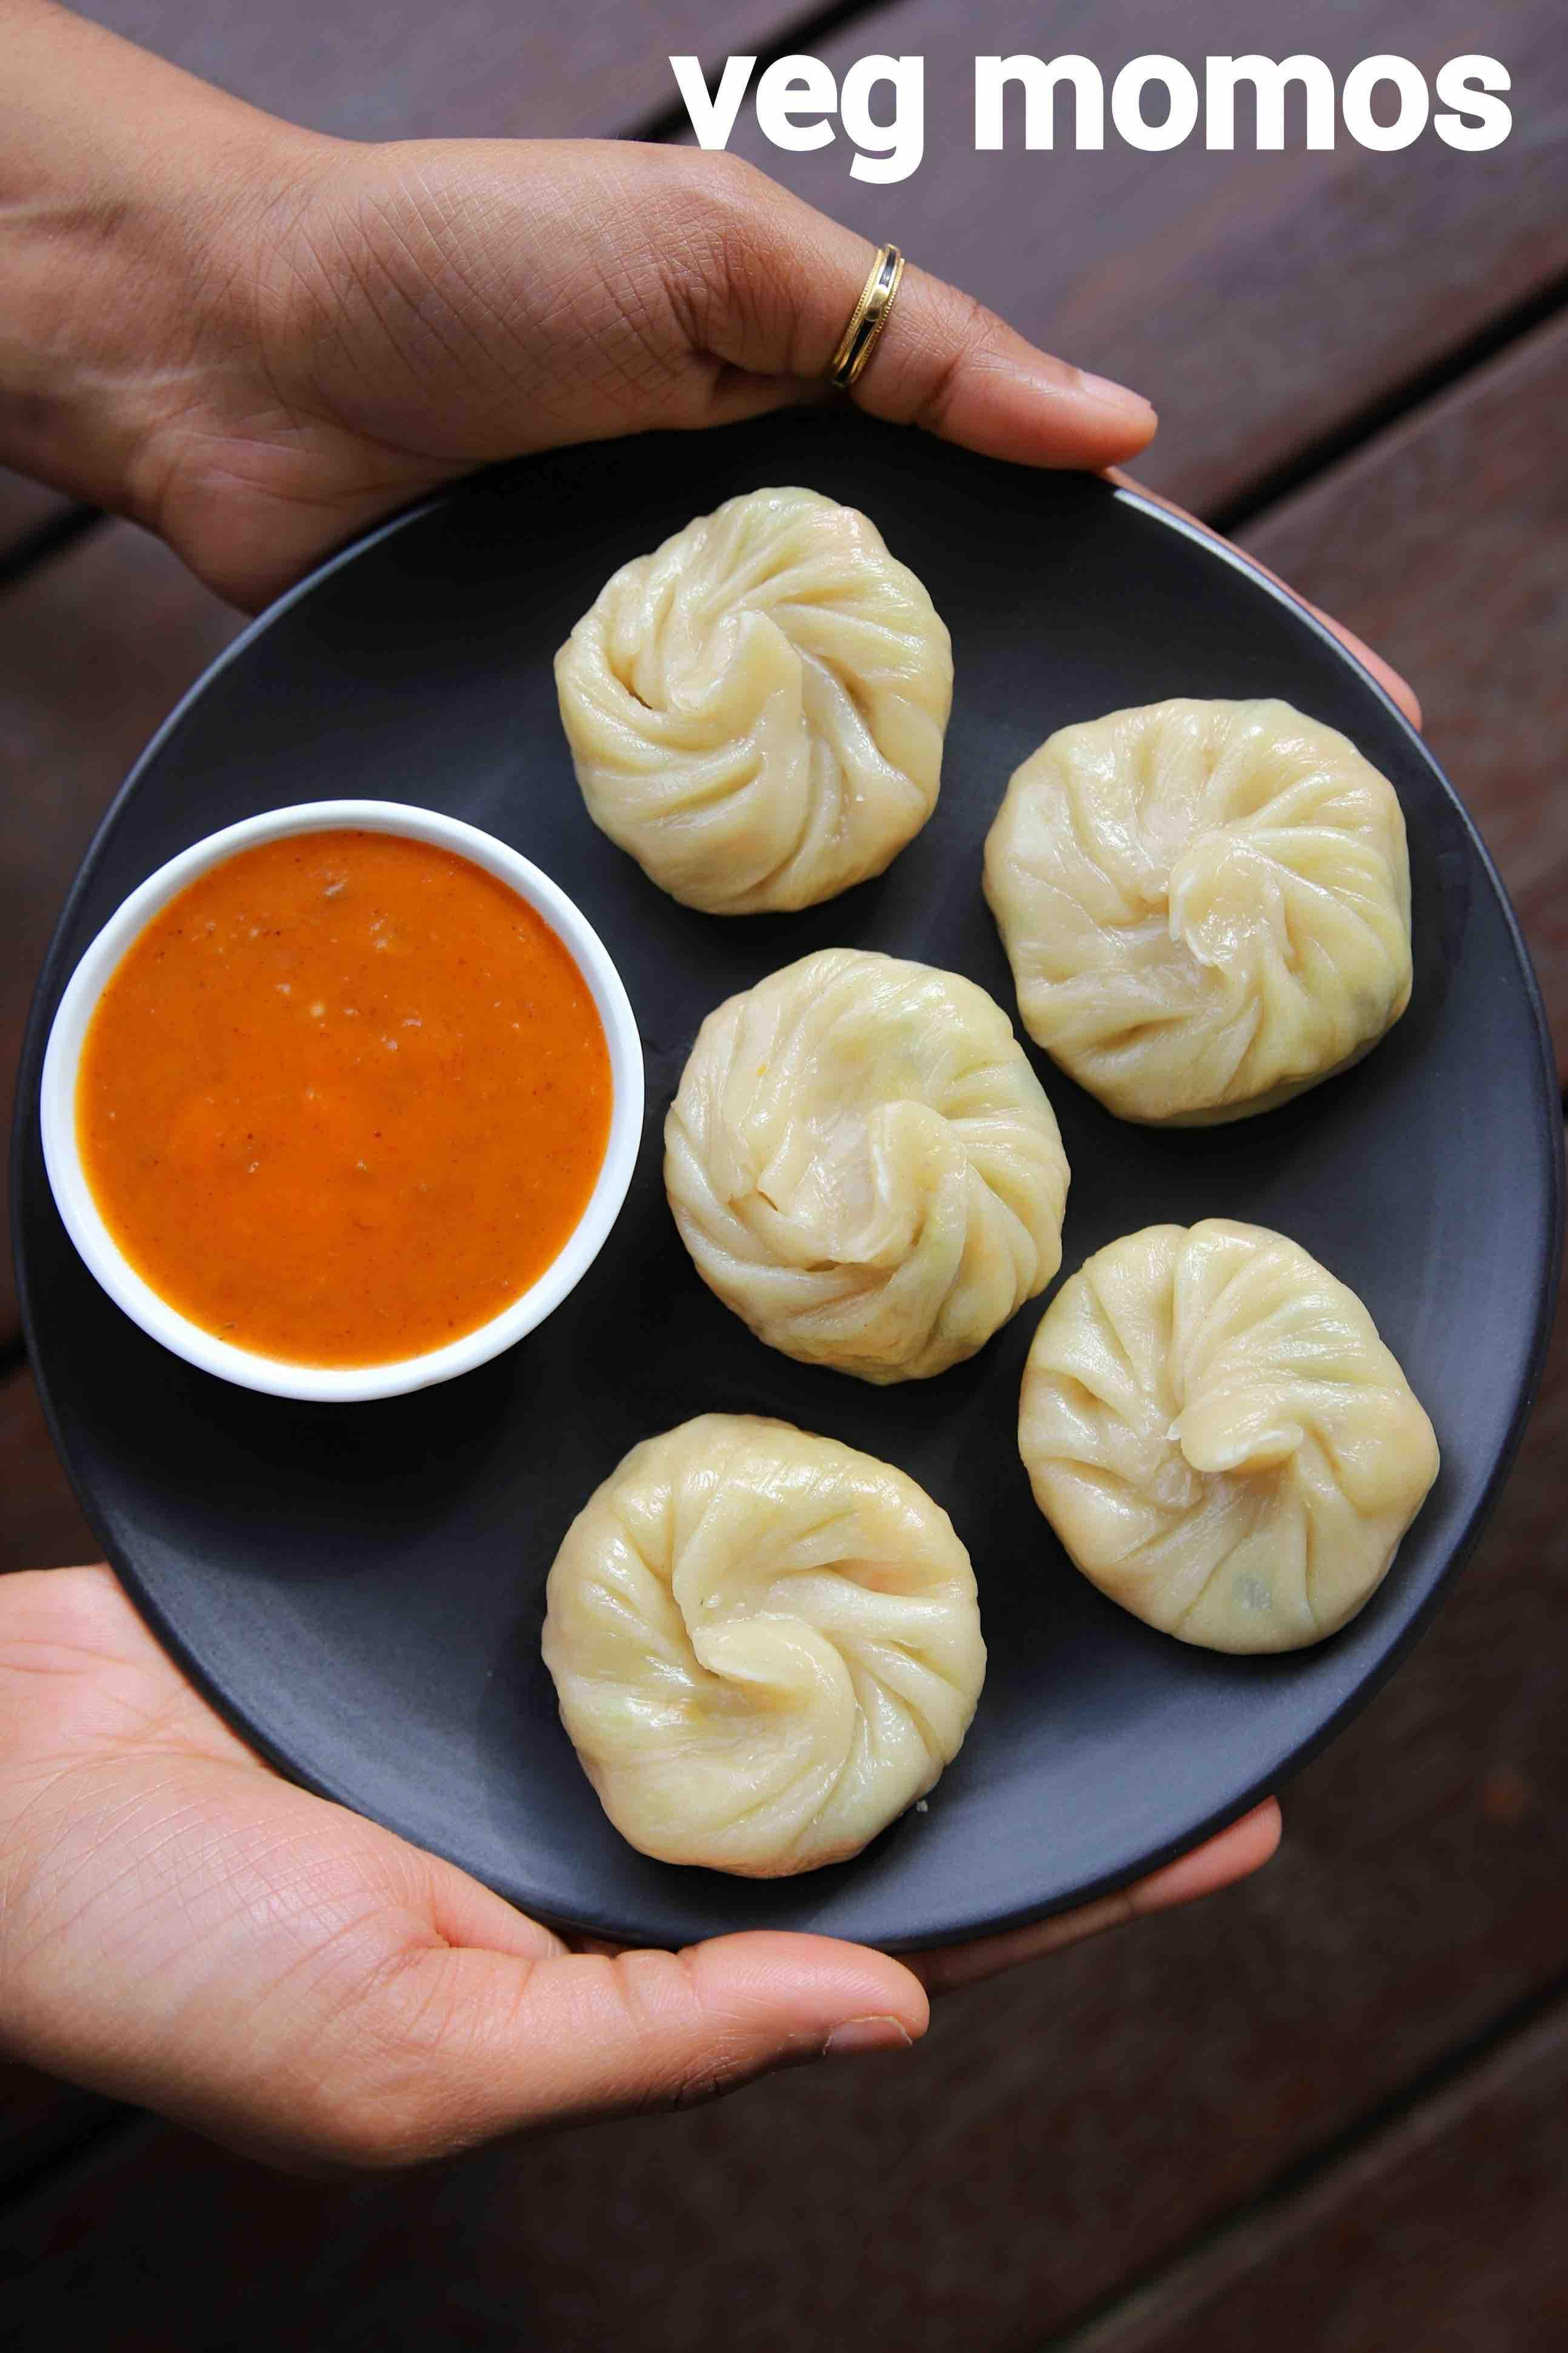momos: (542, 1415, 983, 1879), (1015, 1218, 1438, 1655), (983, 698, 1410, 1127), (661, 946, 1071, 1384), (556, 486, 952, 915)
